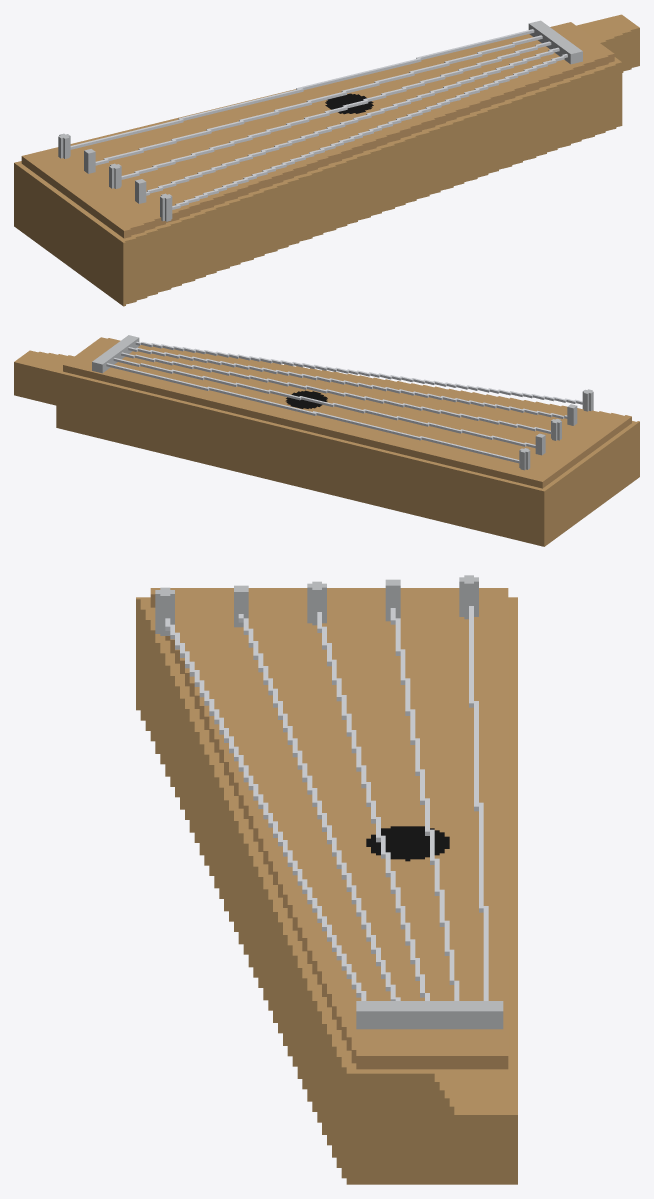
File: kantele.glb
3 renders of one model, top to bottom at view 1: azimuth 30°, elevation 25°; view 2: azimuth 150°, elevation 25°; view 3: azimuth 270°, elevation 25°, orthographic. The views are drawn at different scales.
Parts seen in each view (by area): view 1: kantele:compound; view 2: kantele:compound; view 3: kantele:compound.
Part boxes in pixels (bbox=[...]): kantele:compound: bbox=[14, 14, 639, 306]; kantele:compound: bbox=[14, 335, 639, 546]; kantele:compound: bbox=[136, 575, 517, 1184].
Bounding box in the file's own units: 0.5 × 0.072 × 0.156.
